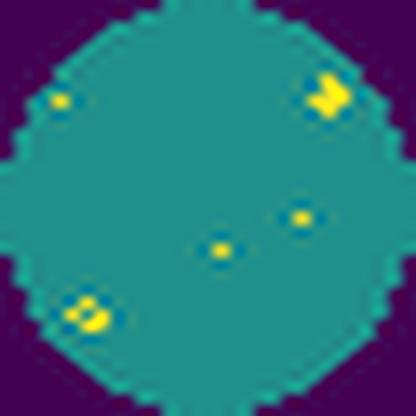Loc: (66, 286, 118, 336), (307, 72, 353, 123)
